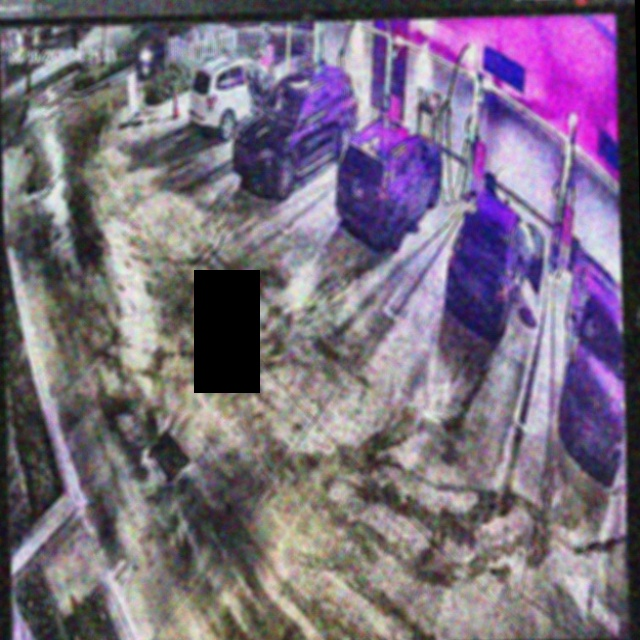Car: (441, 189, 546, 338), (231, 67, 360, 186), (332, 110, 444, 245)
